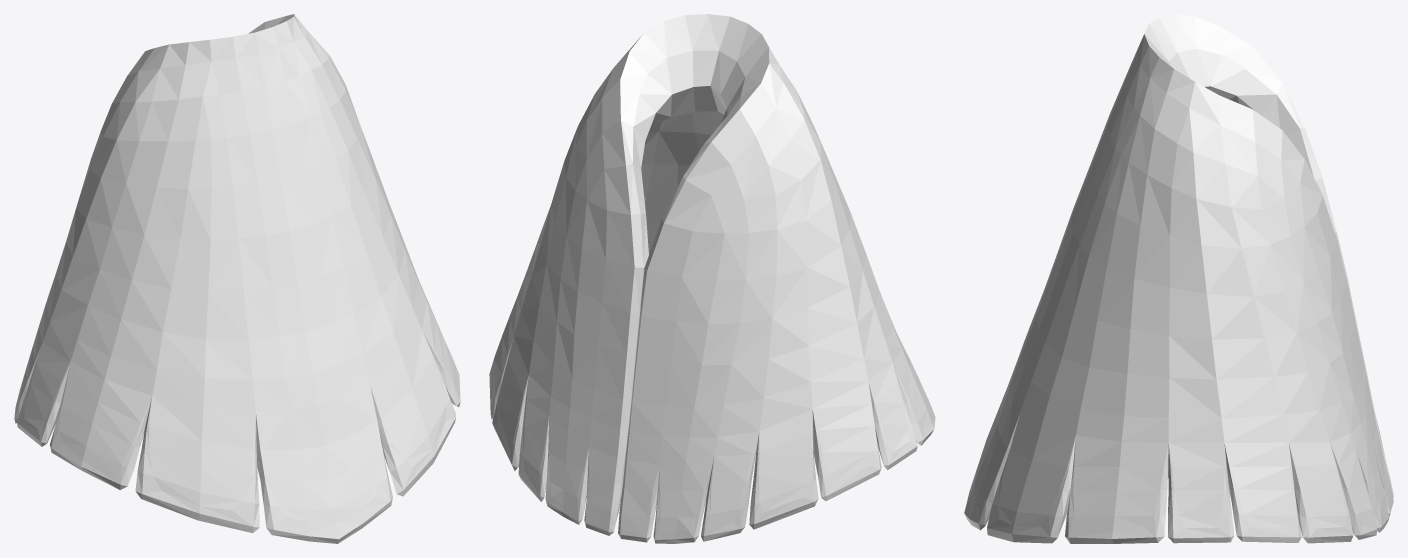
File: CharSkyKid_Wing_ClassicTwo_Default.glb
3 renders of one model, left to right at view 1: azimuth 30°, elevation 25°; view 2: azimuth 150°, elevation 25°; view 3: azimuth 270°, elevation 25°, orthographic. The views are drawn at different scales.
Parts seen in each view (by area): view 1: CharSkyKid_Wing_ClassicTwo_Default; view 2: CharSkyKid_Wing_ClassicTwo_Default; view 3: CharSkyKid_Wing_ClassicTwo_Default.
Boxes of the visible parts, left/top/right/bottom form: CharSkyKid_Wing_ClassicTwo_Default: left=14, top=14, right=460, bottom=543; CharSkyKid_Wing_ClassicTwo_Default: left=489, top=14, right=935, bottom=543; CharSkyKid_Wing_ClassicTwo_Default: left=964, top=14, right=1393, bottom=543.
Size of the model in its own units: 6.47 by 6.93 by 5.56.
1 material, 1 textured.
